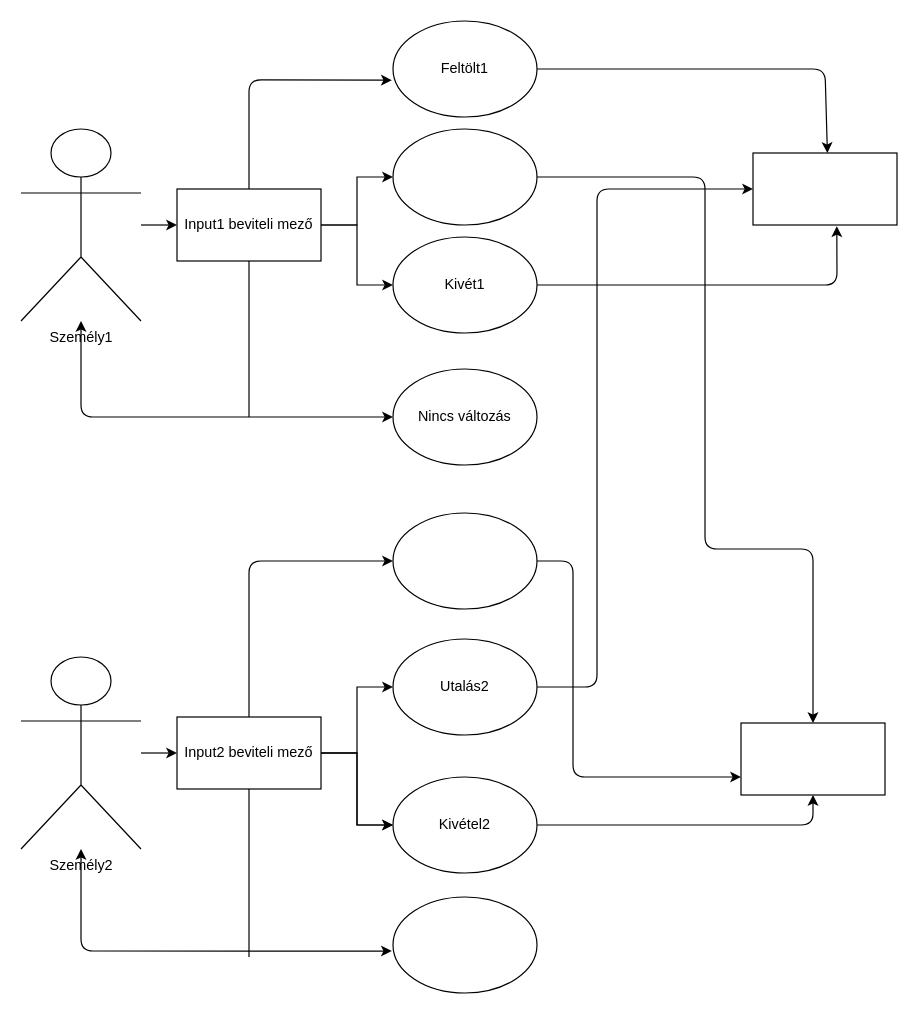
The diagram is 918 pixels wide and 1014 high, and some of its shapes have lost their labels. The box of each missing label's shape, as (x1, y1, x2, y2) in pixels:
Feltölt2: (392, 512, 537, 609)
Nincs változtatás: (392, 896, 537, 993)
Számla1: (752, 152, 897, 225)
Számla2: (740, 722, 885, 795)
Utalás1: (392, 128, 537, 225)
